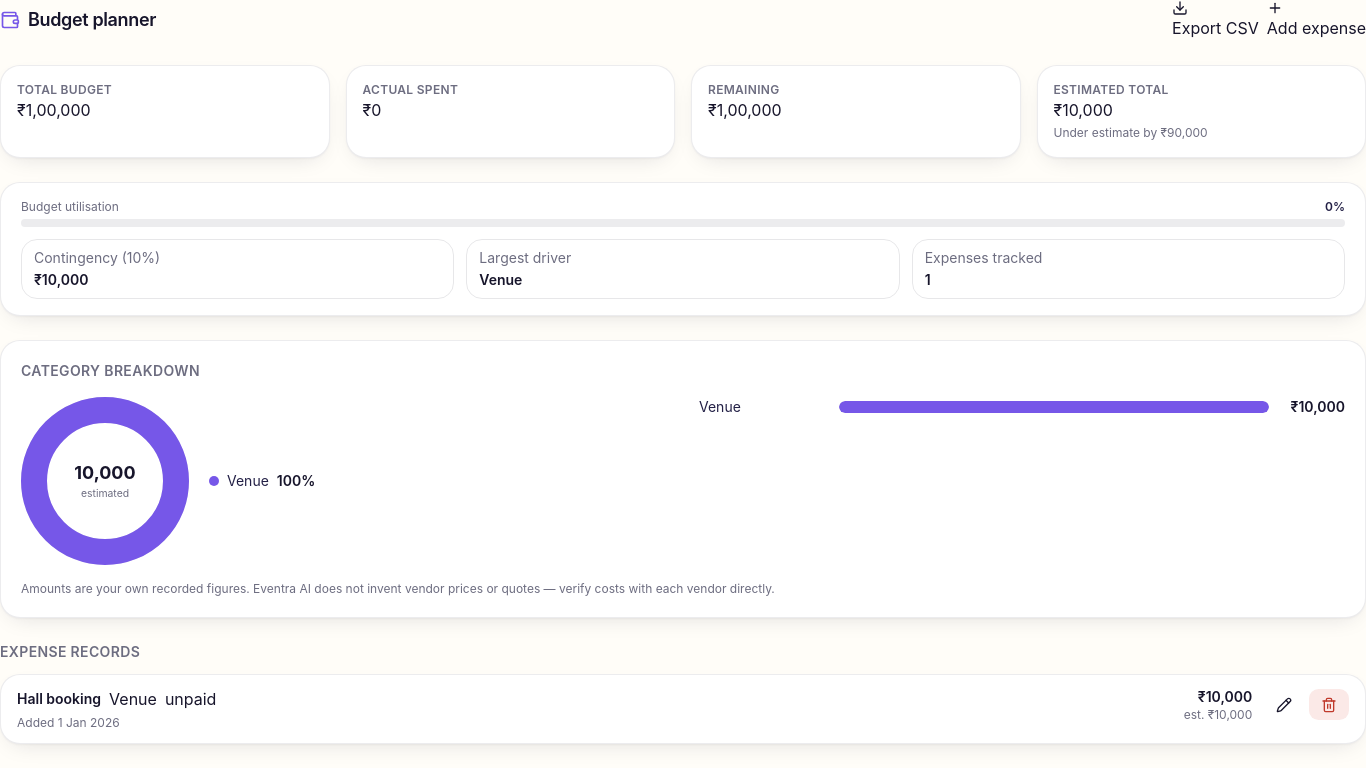
Test: BudgetPanel › deletes an expense after confirmation
Click the button named "Delete Hall booking" at (1329, 705), box [1309,689,1349,720]
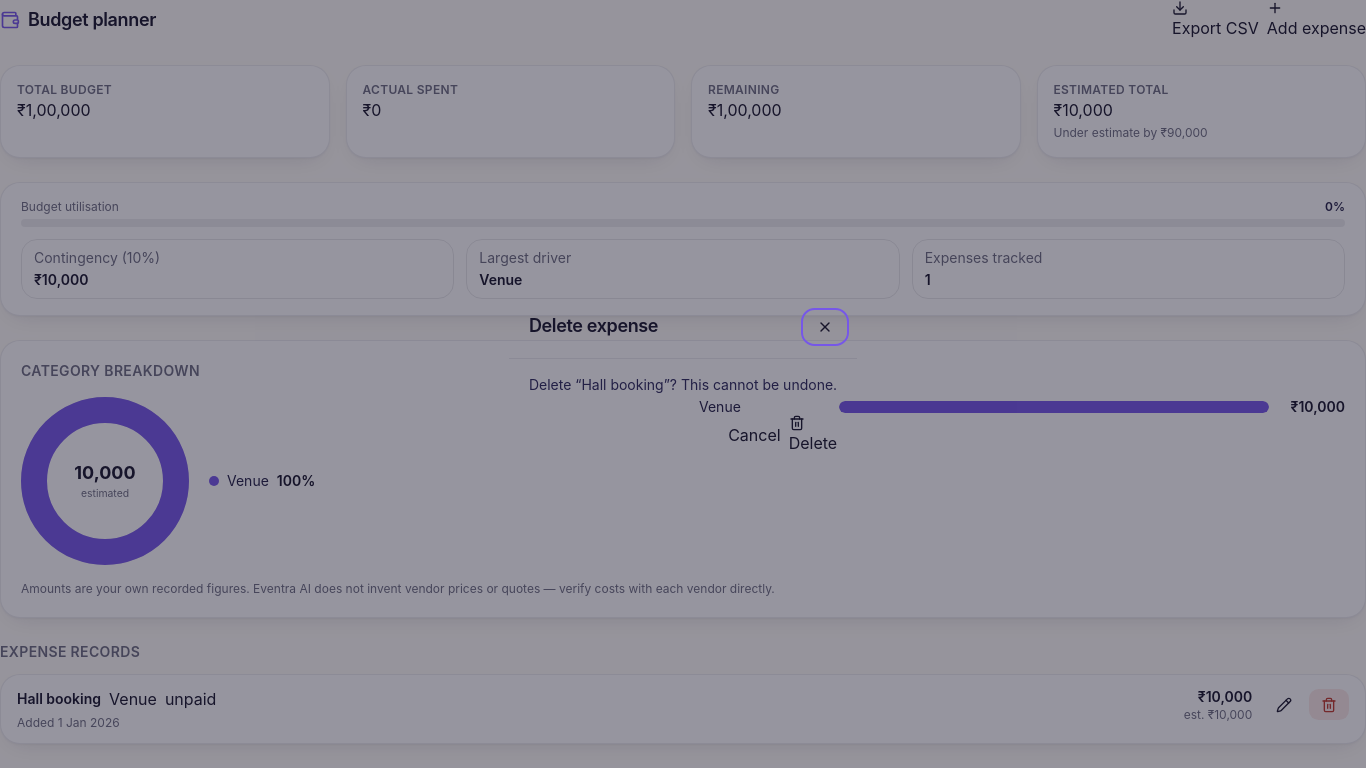
Click the button "Delete" at (813, 436), box [789,416,837,456]
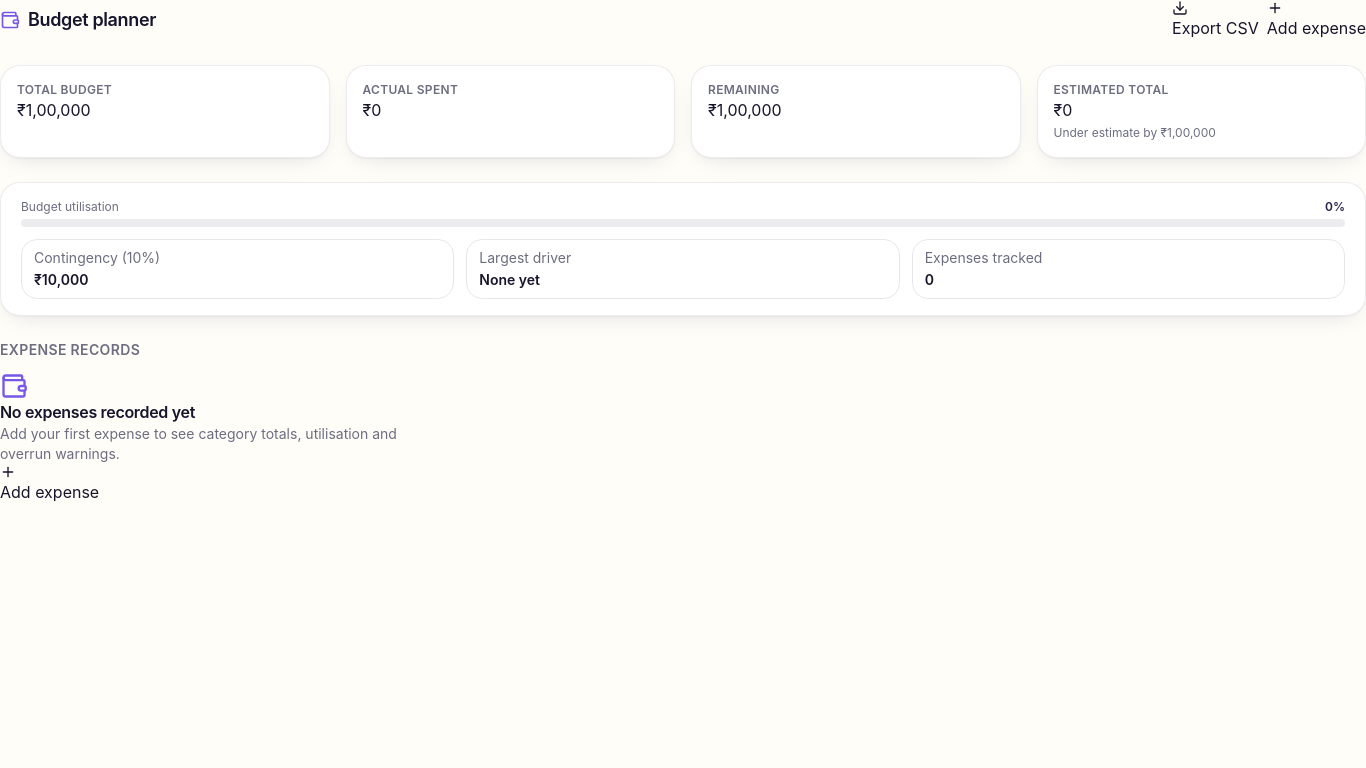
Expected: the heading "No expenses recorded yet" is shown, [0,402,195,422]
Expected: the text "Hall booking" is gone
